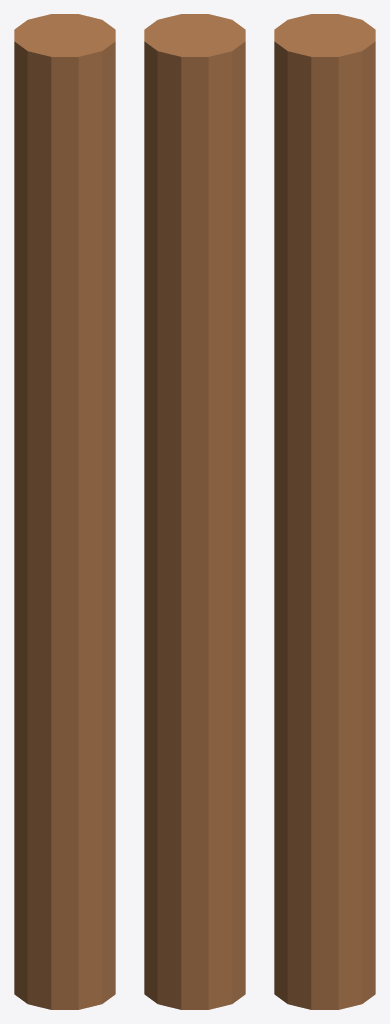
Rendered from Utility_WaterTank_Pipe.glb.
The picture shows the model from 3 angles, left to right: view 1: azimuth 30°, elevation 25°; view 2: azimuth 150°, elevation 25°; view 3: azimuth 330°, elevation 25°; orthographic projection.
Parts seen in each view (by area): view 1: Utility_WaterTank_Pipe; view 2: Utility_WaterTank_Pipe; view 3: Utility_WaterTank_Pipe.
Part boxes in pixels (left/top/right/bottom): Utility_WaterTank_Pipe: left=14, top=14, right=115, bottom=1009; Utility_WaterTank_Pipe: left=144, top=14, right=245, bottom=1009; Utility_WaterTank_Pipe: left=274, top=14, right=375, bottom=1009.
Size of the model in its own units: 0.1642 by 1.7 by 0.1642.
